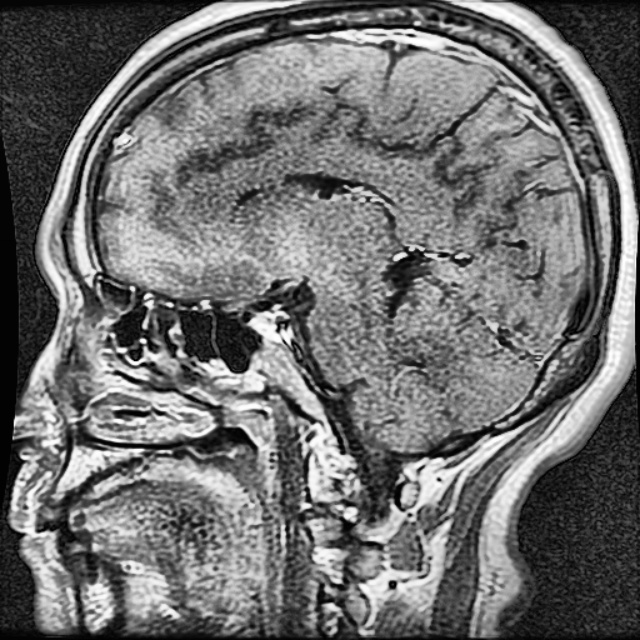Pituitary: (249, 312, 282, 343)
